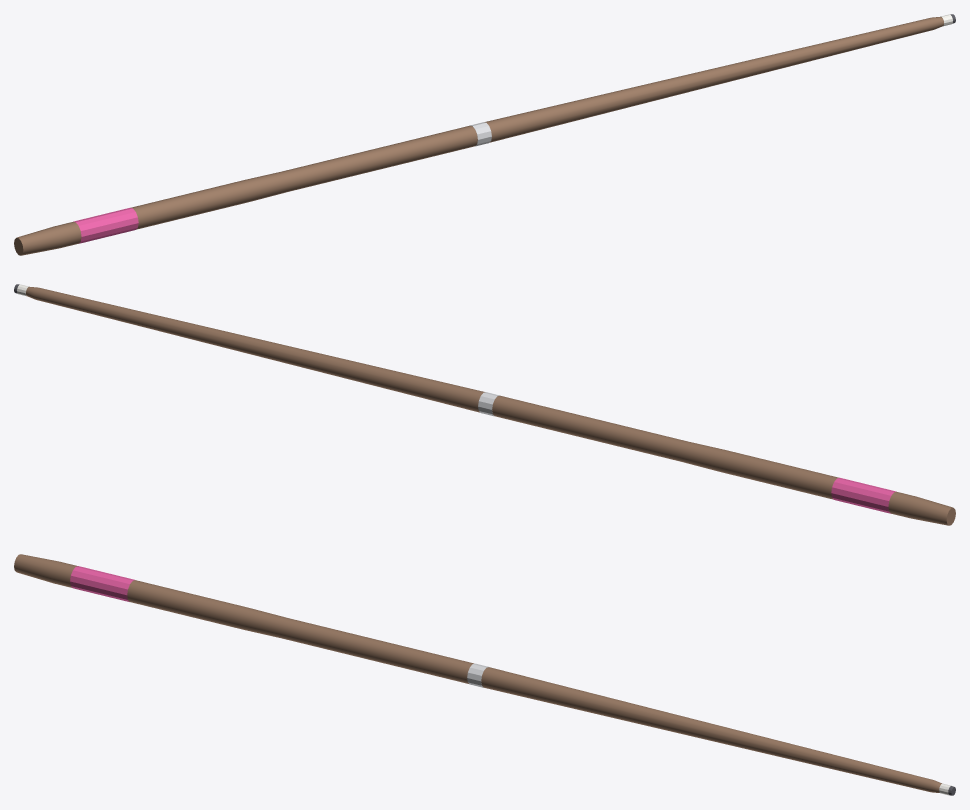
File: bowling-alley-and-pool-hall-pool-cue-03fdec43__33858.glb
3 renders of one model, top to bottom at view 1: azimuth 30°, elevation 25°; view 2: azimuth 150°, elevation 25°; view 3: azimuth 330°, elevation 25°, orthographic.
Parts seen in each view (by area): view 1: pool-cue; view 2: pool-cue; view 3: pool-cue.
Part boxes in pixels (x1,y1,x2,y2): pool-cue: [14, 14, 955, 255]; pool-cue: [14, 284, 955, 525]; pool-cue: [14, 554, 955, 795].
Bounding box in the file's own units: 1.47 × 0.0314 × 0.0314.
